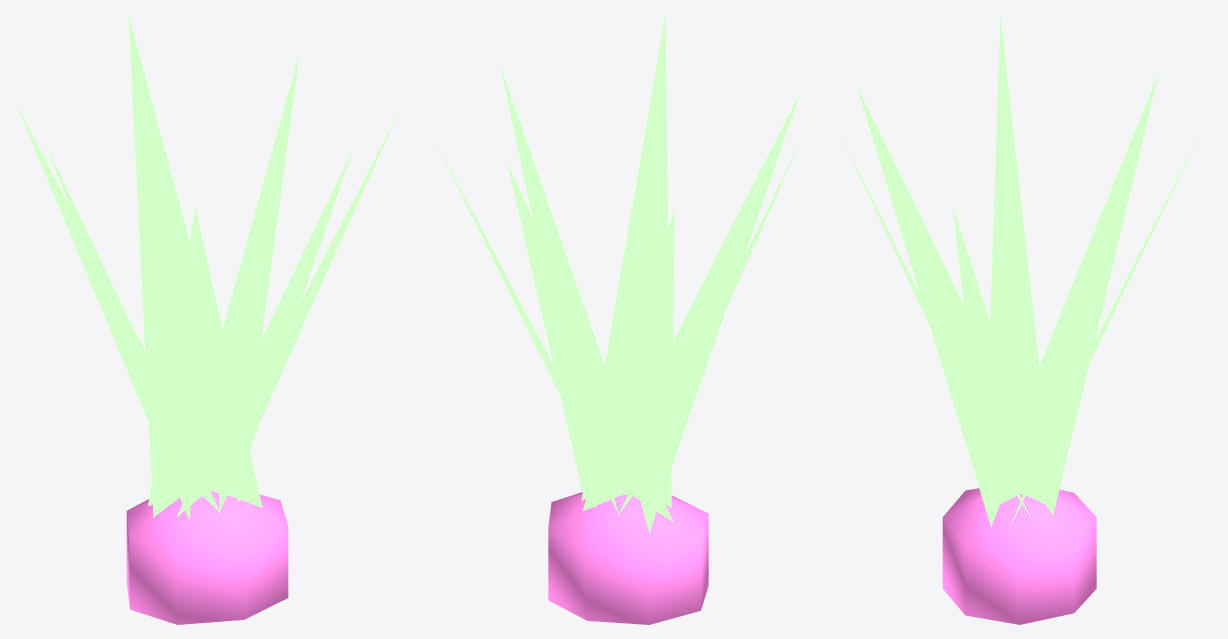
The model's file is bio_reed_prop.glb.
The picture shows the model from 3 angles, left to right: view 1: azimuth 30°, elevation 25°; view 2: azimuth 150°, elevation 25°; view 3: azimuth 270°, elevation 25°; orthographic projection.
Visible parts, largest first — view 1: bio_reed_prop; view 2: bio_reed_prop; view 3: bio_reed_prop.
Boxes of the visible parts, x1=… form: bio_reed_prop: x1=15, y1=15, x2=399, y2=624; bio_reed_prop: x1=431, y1=14, x2=804, y2=624; bio_reed_prop: x1=836, y1=15, x2=1210, y2=624.
Bounding box in the file's own units: 0.6743 × 1 × 0.6764.
